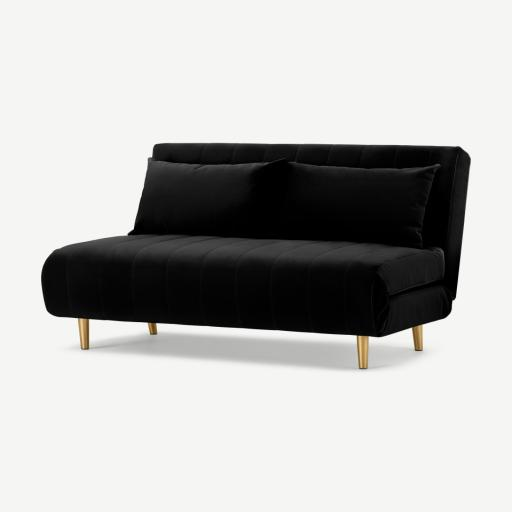back_cushion: (129, 158, 439, 248)
legs: (78, 318, 89, 349), (358, 336, 368, 369), (413, 326, 422, 351), (148, 323, 157, 335)
one-seater: (0, 0, 511, 512)
seat_cushion: (43, 234, 451, 335)
